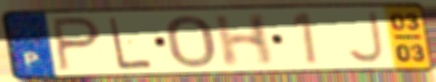1: (291, 10, 321, 67)
H: (212, 12, 276, 69)
J: (344, 10, 387, 66)
L: (106, 16, 155, 72)
O: (164, 14, 219, 70)
P: (50, 15, 104, 74)
